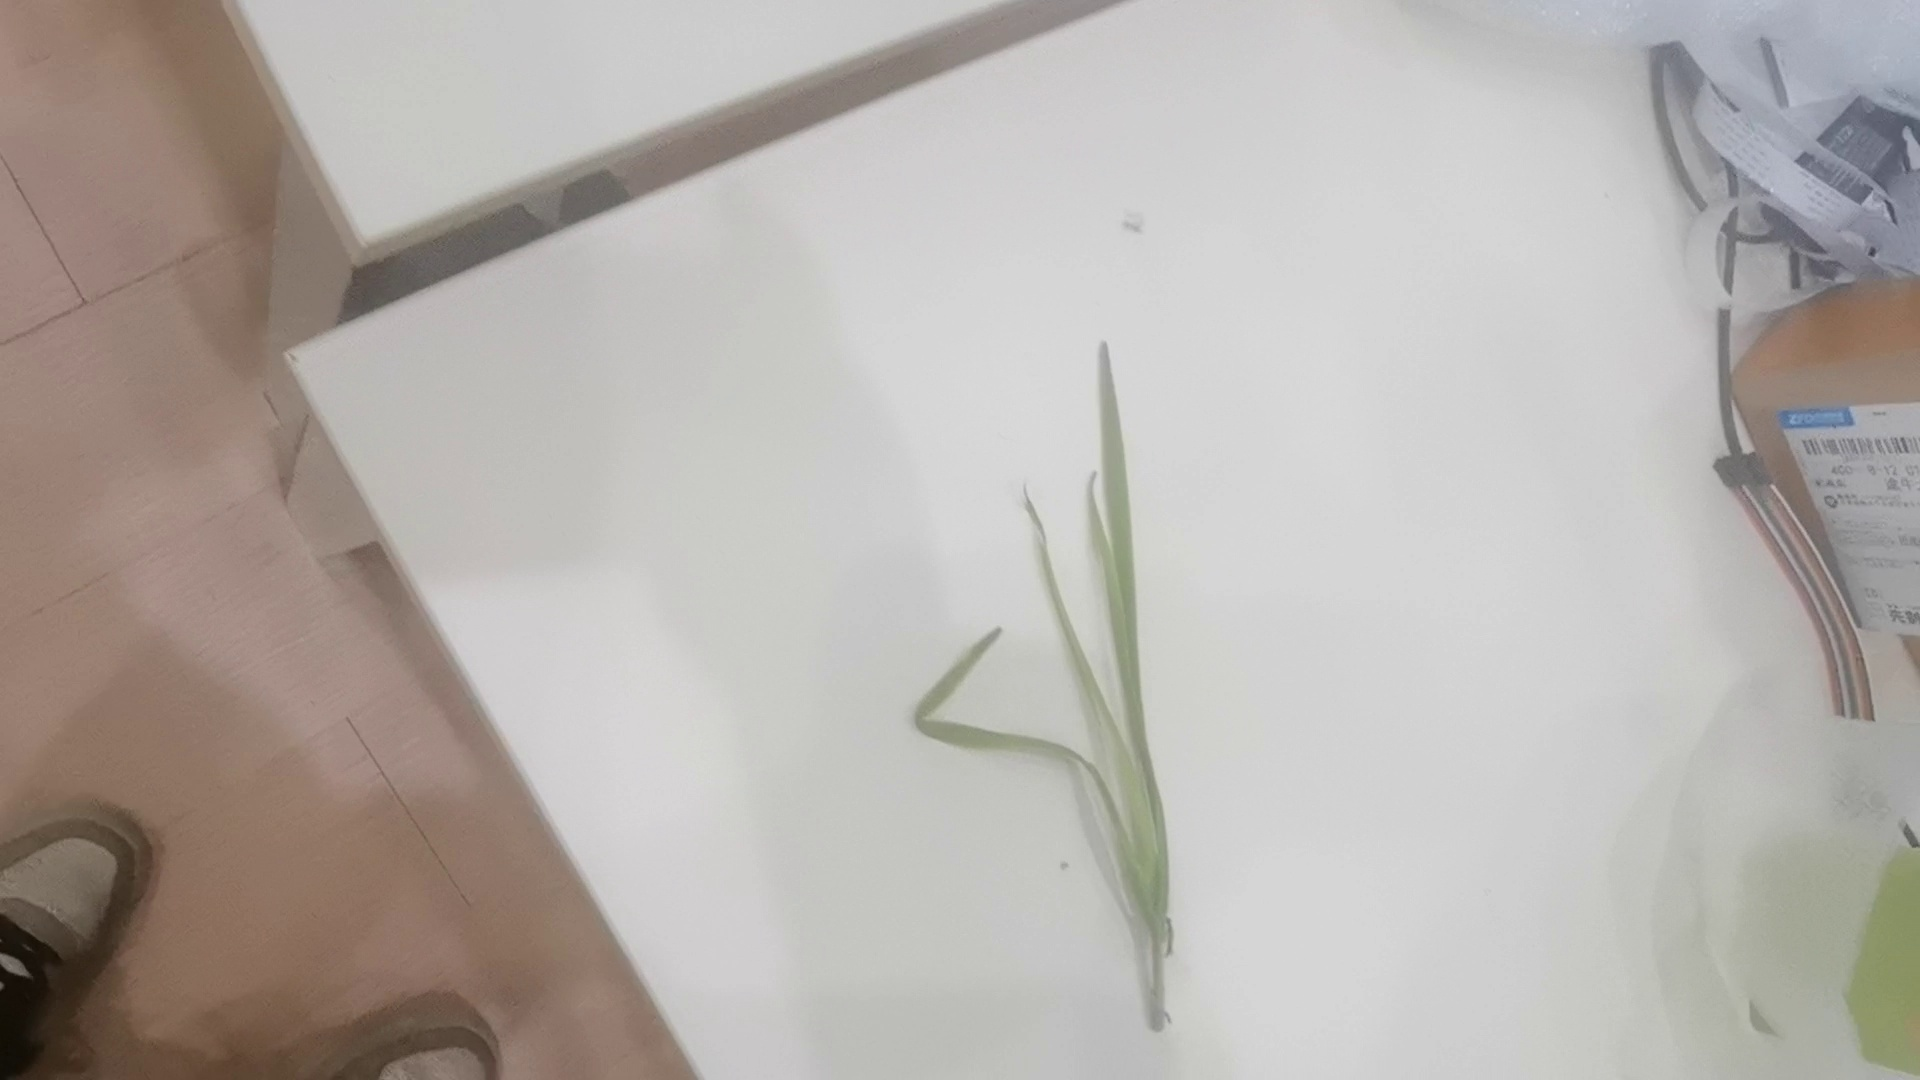chives: (913, 336, 1183, 1042)
